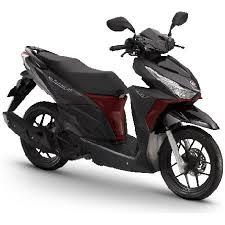motorcycle: (1, 10, 223, 200)
